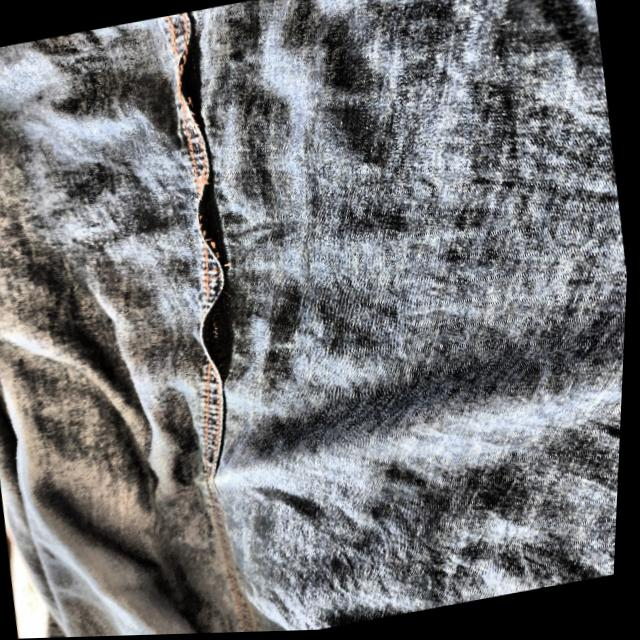seam: (184, 173, 240, 284), (192, 291, 252, 389), (164, 39, 215, 125)
